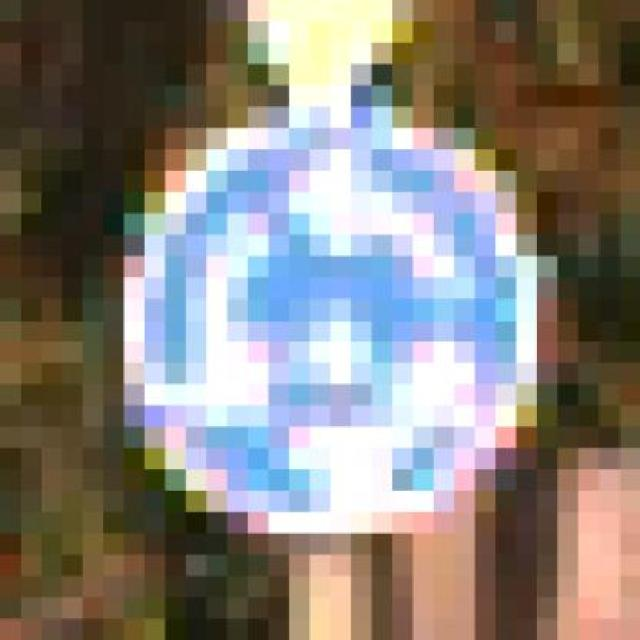Round-About: (61, 107, 598, 598)
